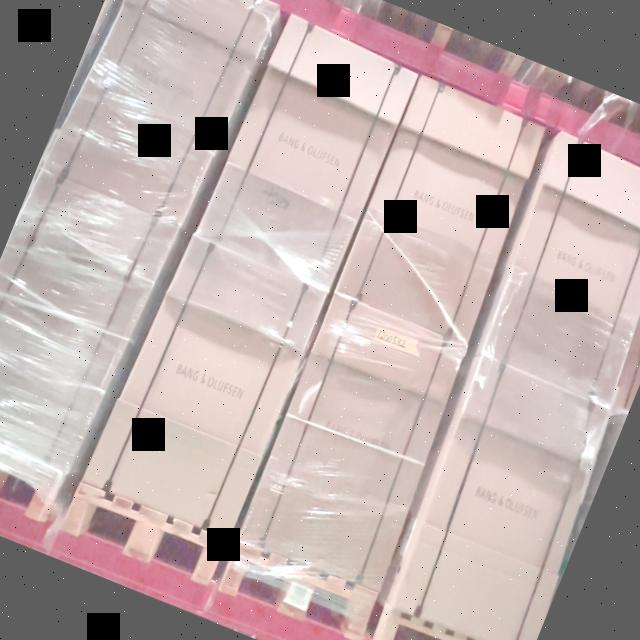box: (80, 237, 329, 540), (238, 293, 474, 595), (394, 353, 613, 640), (202, 13, 422, 286), (333, 74, 551, 344), (46, 0, 279, 226), (482, 133, 640, 405)
